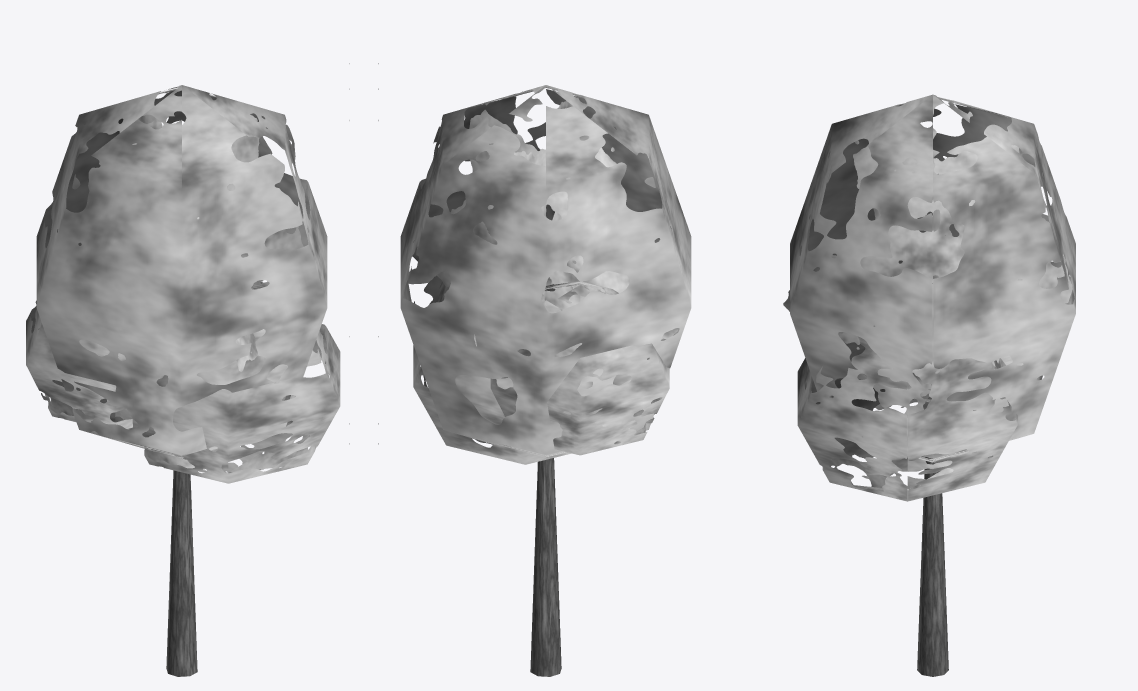
Rendered from tree_row.glb.
3 views of the same model, side by side, from view 1: azimuth 30°, elevation 25°; view 2: azimuth 150°, elevation 25°; view 3: azimuth 270°, elevation 25° (orthographic).
Visible parts, largest first — view 1: tree_row; view 2: tree_row; view 3: tree_row.
Part boxes in pixels (x1,y1,x2,y2): tree_row: (26,63,349,676); tree_row: (378,63,691,676); tree_row: (783,94,1075,676).
Bounding box in the file's own units: 6 × 10 × 6.
2 materials, 2 textured.
